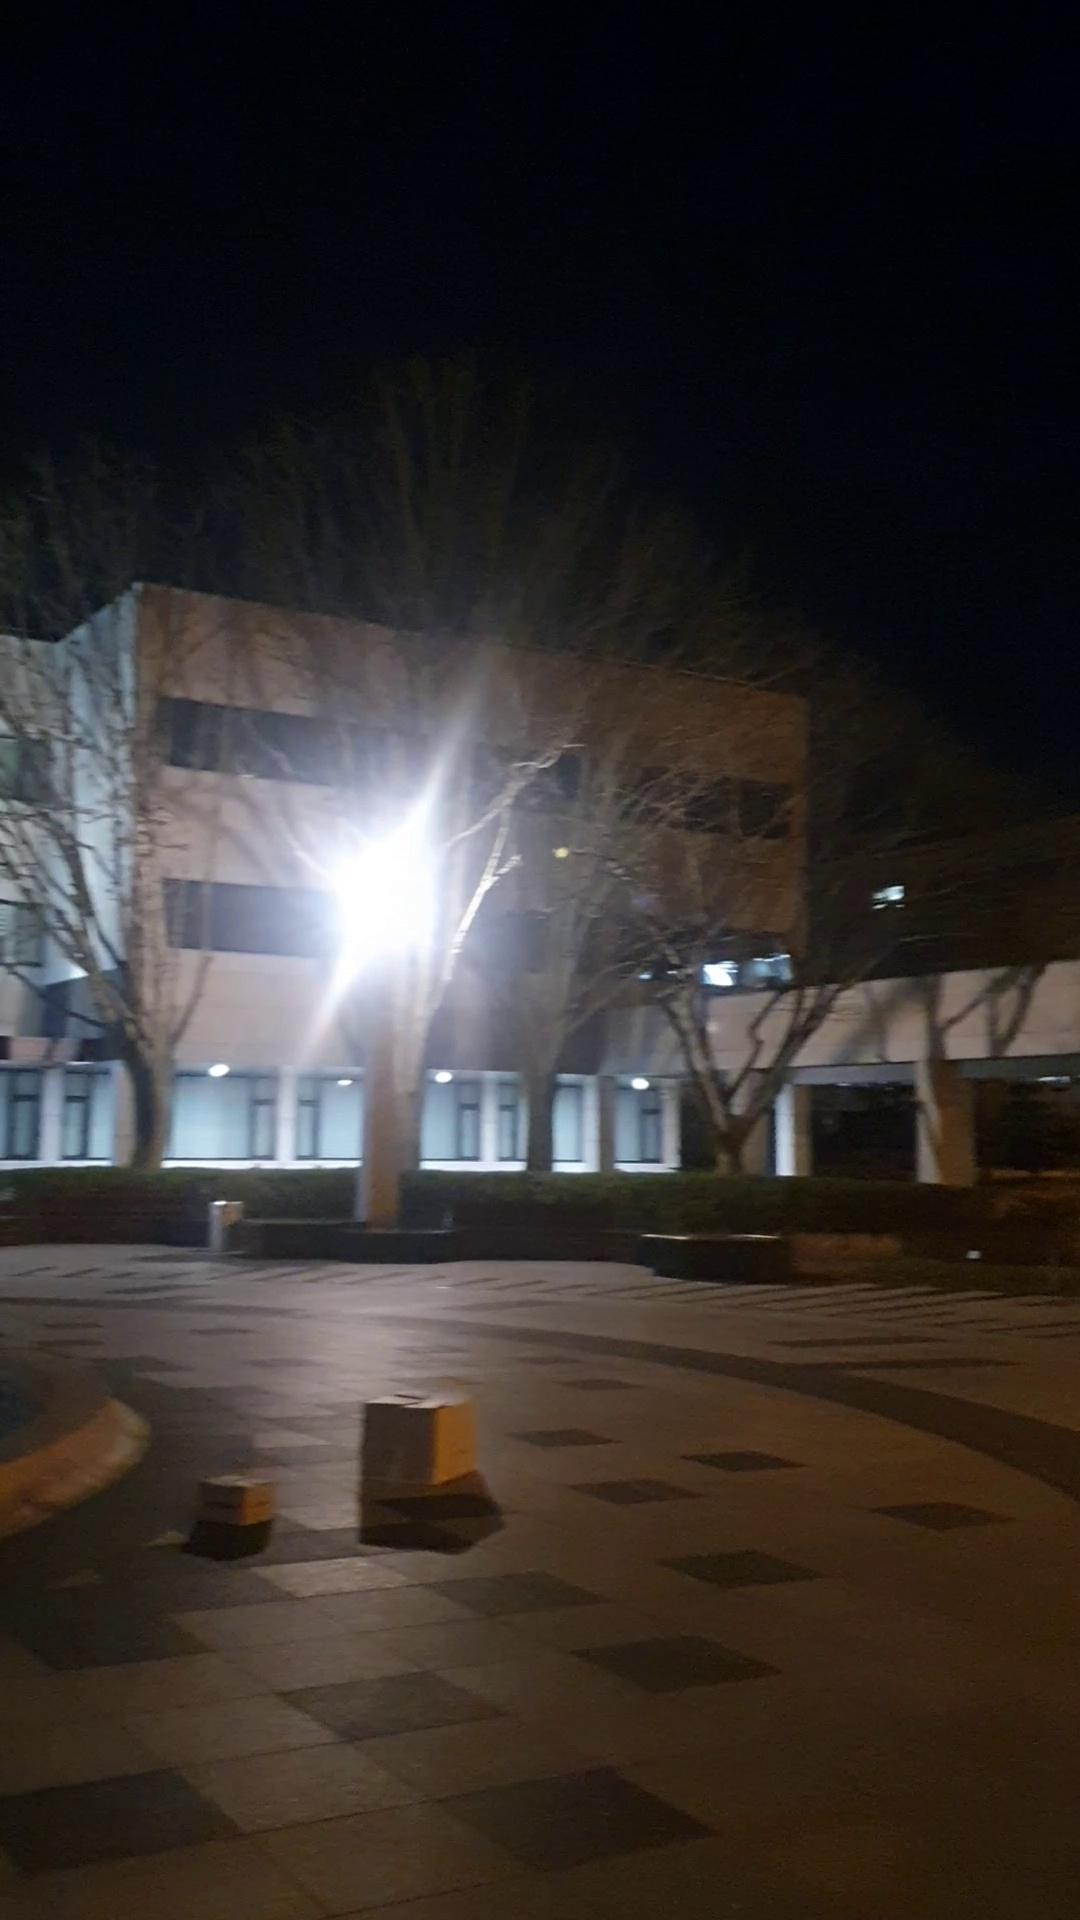Box: (357, 1375, 483, 1510), (186, 1468, 285, 1538)
